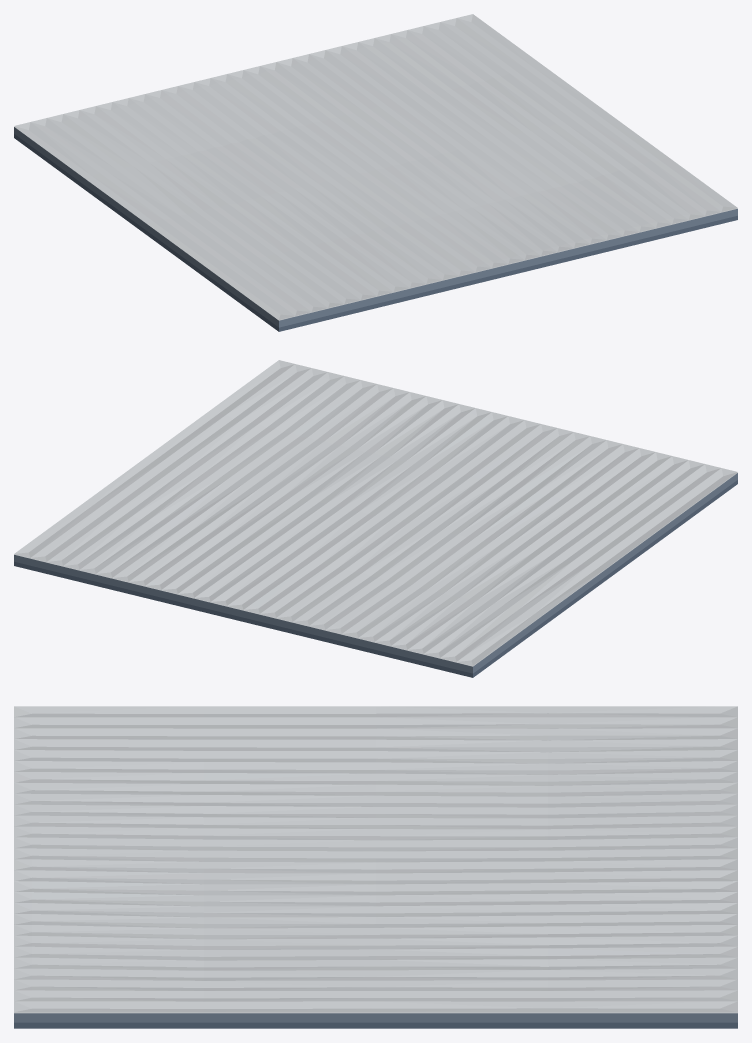
Rendered from groomed-piste-tile-32b2a2.glb.
The picture shows the model from 3 angles, top to bottom: view 1: azimuth 30°, elevation 25°; view 2: azimuth 150°, elevation 25°; view 3: azimuth 270°, elevation 25°; orthographic projection. The views are drawn at different scales.
Visible parts, largest first — view 1: piste-surface; view 2: piste-surface; view 3: piste-surface.
Boxes of the visible parts, left/top/right/bottom form: piste-surface: left=14, top=14, right=737, bottom=331; piste-surface: left=14, top=360, right=737, bottom=677; piste-surface: left=14, top=706, right=737, bottom=1028.
Size of the model in its own units: 2 by 0.05 by 2.
